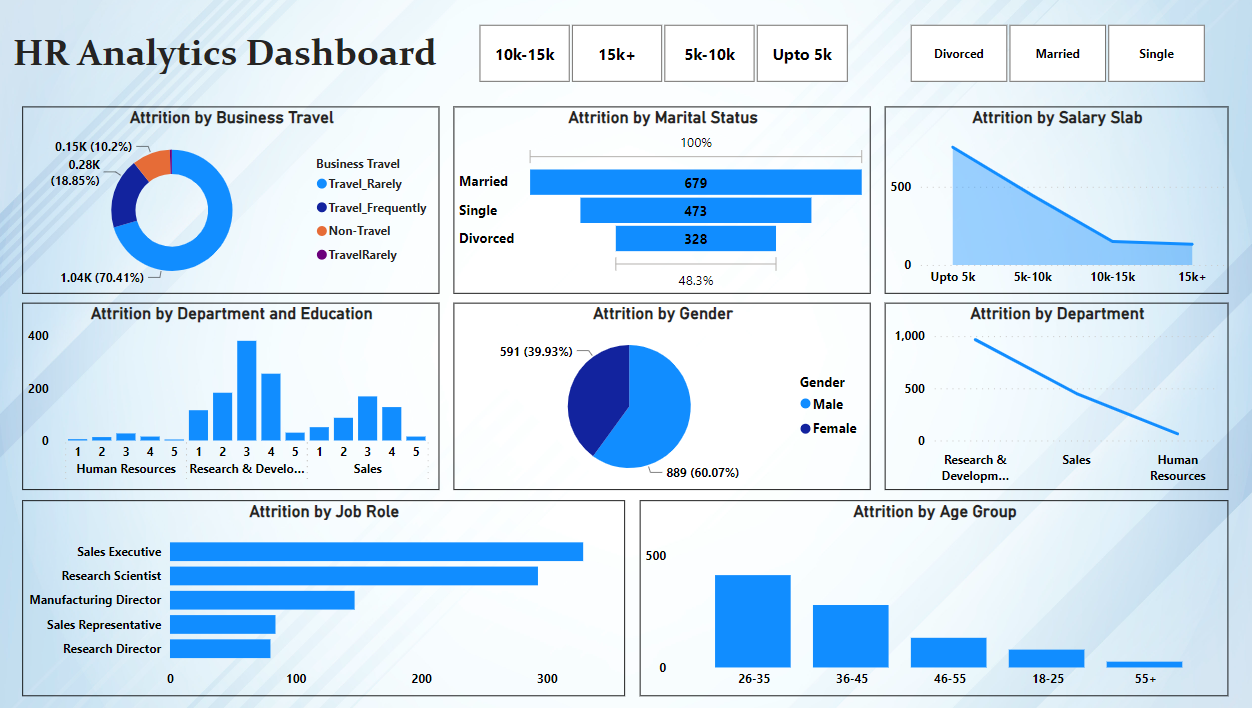

This screenshot's page, from the dashboard's own definition file:
{"tool":"powerbi","page":{"name":"Page 1","canvas":[1280,720],"ordinal":0},"visuals":[{"type":"textbox","box":[0,26.6,463.3,58.2],"z":0},{"type":"donutChart","fields":{"Y":["CountNonNull(HR_Analytics.Attrition)"],"Category":["HR_Analytics.BusinessTravel"]},"box":[26.6,108.9,422.8,189.9],"z":1000},{"type":"columnChart","fields":{"Category":["HR_Analytics.Department","HR_Analytics.Education"],"Y":["CountNonNull(HR_Analytics.Attrition)"]},"box":[26.6,307.6,422.8,189.9],"z":2000},{"type":"clusteredBarChart","fields":{"Y":["CountNonNull(HR_Analytics.Attrition)"],"Category":["HR_Analytics.JobRole"]},"box":[26.6,507.6,610.1,198.7],"z":3000},{"type":"funnel","fields":{"Category":["HR_Analytics.MaritalStatus"],"Y":["CountNonNull(HR_Analytics.Attrition)"]},"box":[463.3,108.9,422.8,189.9],"z":4000},{"type":"pieChart","fields":{"Y":["CountNonNull(HR_Analytics.Attrition)"],"Category":["HR_Analytics.Gender","HR_Analytics.SalarySlab"]},"box":[463.3,307.6,422.8,189.9],"z":5000},{"type":"lineStackedColumnComboChart","fields":{"Category":["HR_Analytics.AgeGroup"],"Y":["CountNonNull(HR_Analytics.Attrition)"]},"box":[651.9,507.6,596.2,198.7],"z":6000},{"type":"stackedAreaChart","fields":{"Y":["CountNonNull(HR_Analytics.Attrition)"],"Category":["HR_Analytics.SalarySlab"]},"box":[900,108.9,348.1,189.9],"z":7000},{"type":"lineChart","fields":{"Y":["CountNonNull(HR_Analytics.Attrition)"],"Category":["HR_Analytics.Department"]},"box":[900,307.6,348.1,189.9],"z":8000},{"type":"slicer","fields":{"Values":["HR_Analytics.MaritalStatus"]},"box":[900,19,348.1,72.2],"z":9000},{"type":"slicer","fields":{"Values":["HR_Analytics.SalarySlab"]},"box":[463.3,19,422.8,72.2],"z":9001}]}

Visuals, with their boxes in screenshot pixels (x1, y1, x2, y2), scaled from the page's 1280x720 canvas onto the 1252x708 screenshot:
textbox: locate(0, 26, 453, 83)
donutChart - CountNonNull(HR_Analytics.Attrition) x HR_Analytics.BusinessTravel: locate(26, 107, 440, 294)
columnChart - HR_Analytics.Department x HR_Analytics.Education: locate(26, 302, 440, 489)
clusteredBarChart - CountNonNull(HR_Analytics.Attrition) x HR_Analytics.JobRole: locate(26, 499, 623, 695)
funnel - HR_Analytics.MaritalStatus x CountNonNull(HR_Analytics.Attrition): locate(453, 107, 867, 294)
pieChart - CountNonNull(HR_Analytics.Attrition) x HR_Analytics.Gender: locate(453, 302, 867, 489)
lineStackedColumnComboChart - HR_Analytics.AgeGroup x CountNonNull(HR_Analytics.Attrition): locate(638, 499, 1221, 695)
stackedAreaChart - CountNonNull(HR_Analytics.Attrition) x HR_Analytics.SalarySlab: locate(880, 107, 1221, 294)
lineChart - CountNonNull(HR_Analytics.Attrition) x HR_Analytics.Department: locate(880, 302, 1221, 489)
slicer - HR_Analytics.MaritalStatus: locate(880, 19, 1221, 90)
slicer - HR_Analytics.SalarySlab: locate(453, 19, 867, 90)
